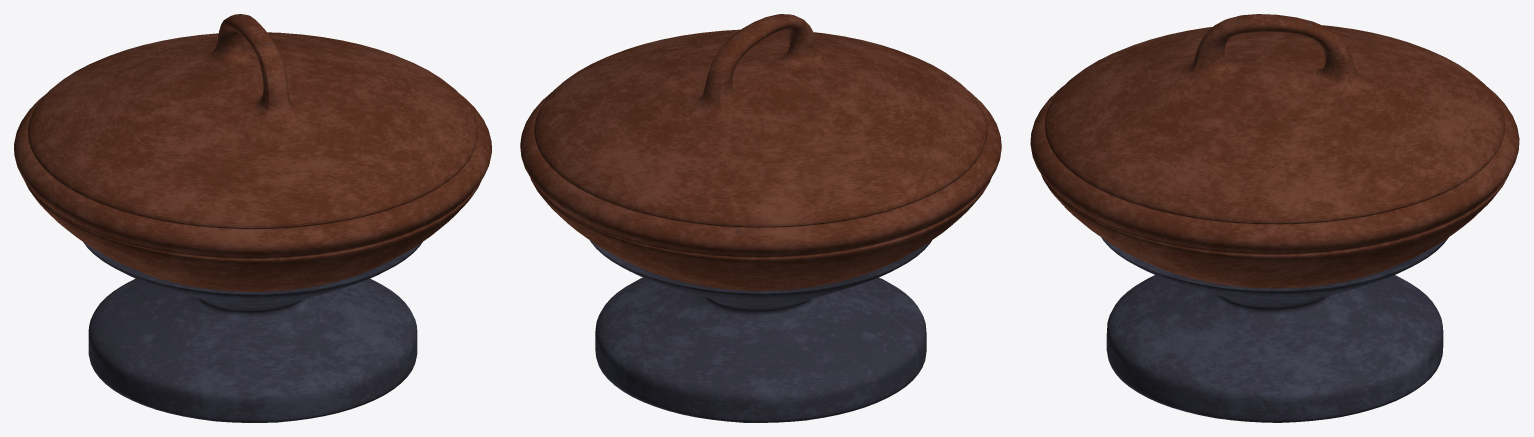
The model's file is Tachong1.fbx.
3 renders of one model, left to right at view 1: azimuth 30°, elevation 25°; view 2: azimuth 150°, elevation 25°; view 3: azimuth 270°, elevation 25°, orthographic. The views are drawn at different scales.
Visible parts, largest first — view 1: Tanchong.001; view 2: Tanchong.001; view 3: Tanchong.001.
Boxes of the visible parts, x1,y1,x2,y2 form: Tanchong.001: [14, 14, 491, 422]; Tanchong.001: [520, 14, 1001, 422]; Tanchong.001: [1030, 14, 1519, 422].
Size of the model in its own units: 90.45 by 69.41 by 90.45.
1 material, 1 textured.
